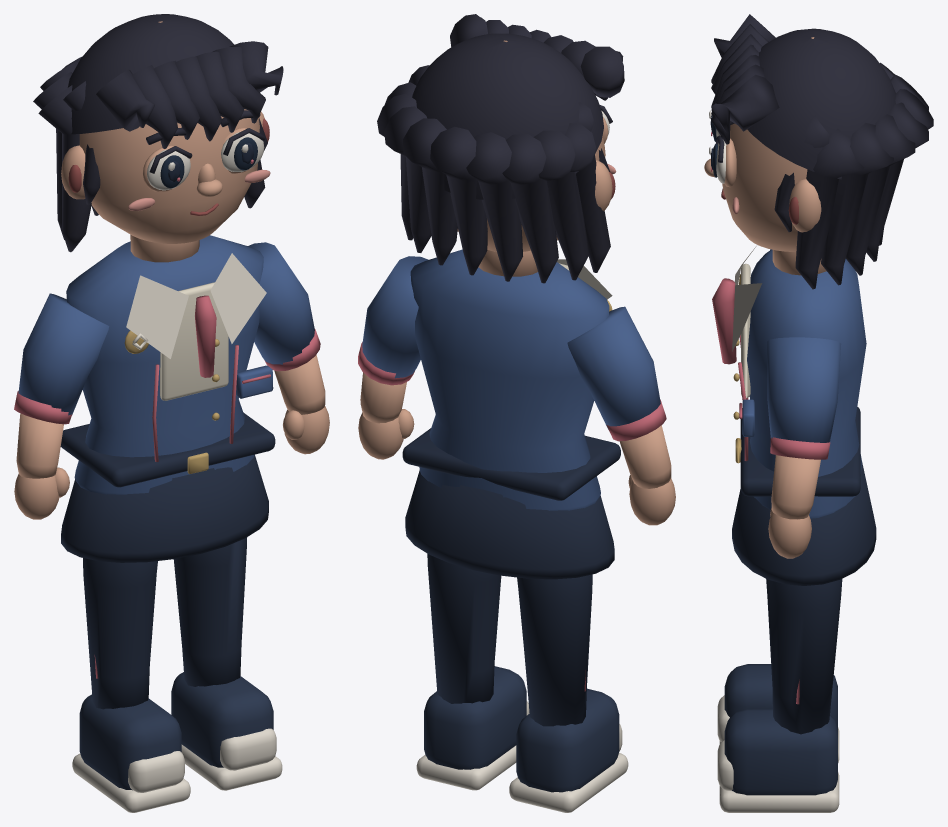
File: xingyin-characters-v1__blocky_character_b.glb
3 renders of one model, left to right at view 1: azimuth 30°, elevation 25°; view 2: azimuth 150°, elevation 25°; view 3: azimuth 270°, elevation 25°, orthographic.
Parts seen in each view (by area): view 1: figure.001; view 2: figure.001; view 3: figure.001.
Boxes of the visible parts, <box> form: figure.001: <box>14,14,329,812</box>; figure.001: <box>358,14,675,812</box>; figure.001: <box>704,14,933,812</box>.
Size of the model in its own units: 1.09 by 2.5 by 0.7029.
